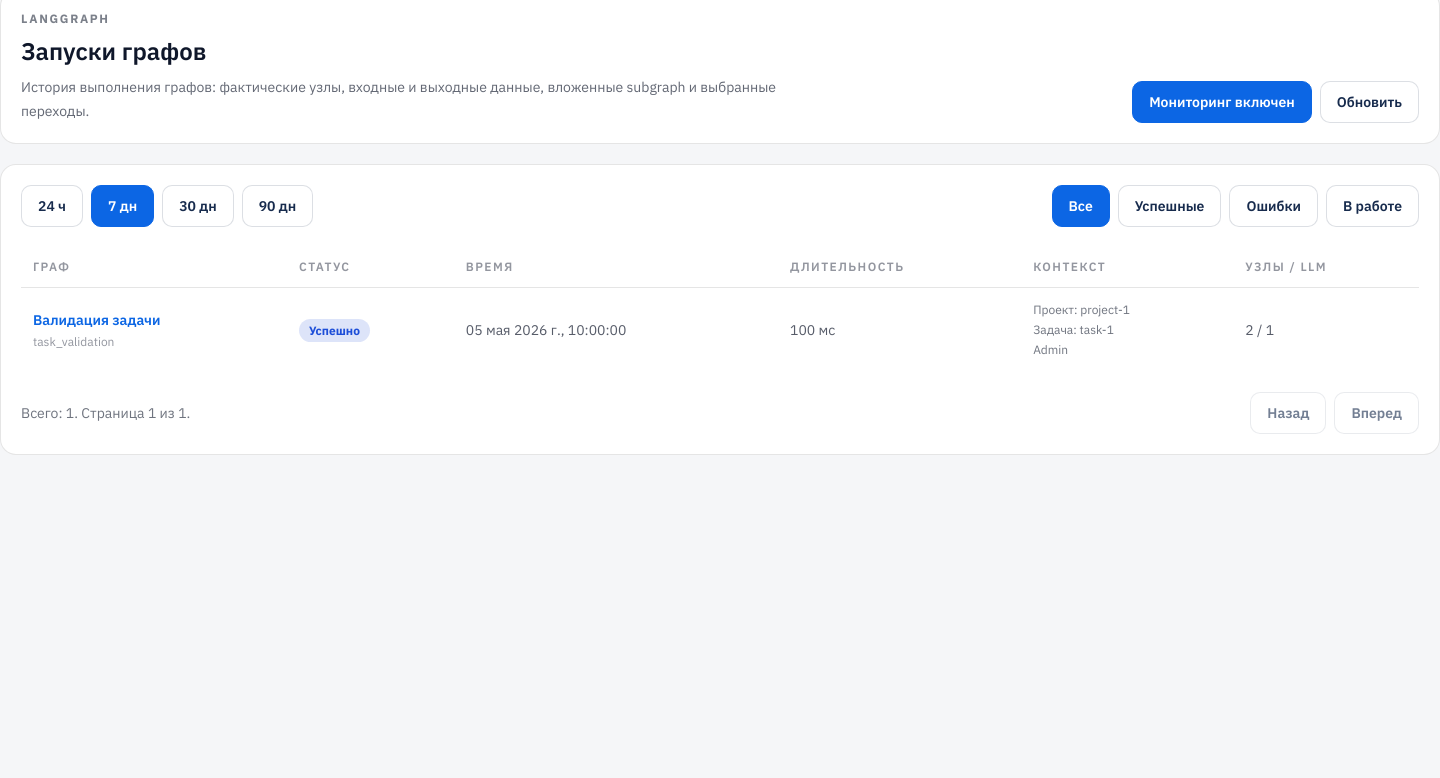
GraphRunsPage › renders graph runs, opens node tree, and expands node input/output
expect the heading "Запуски графов" is shown: met, box x1=21 y1=35 x2=206 y2=67
Click the button "Валидация задачи".
click(97, 320)  # box x1=33 y1=310 x2=160 y2=330
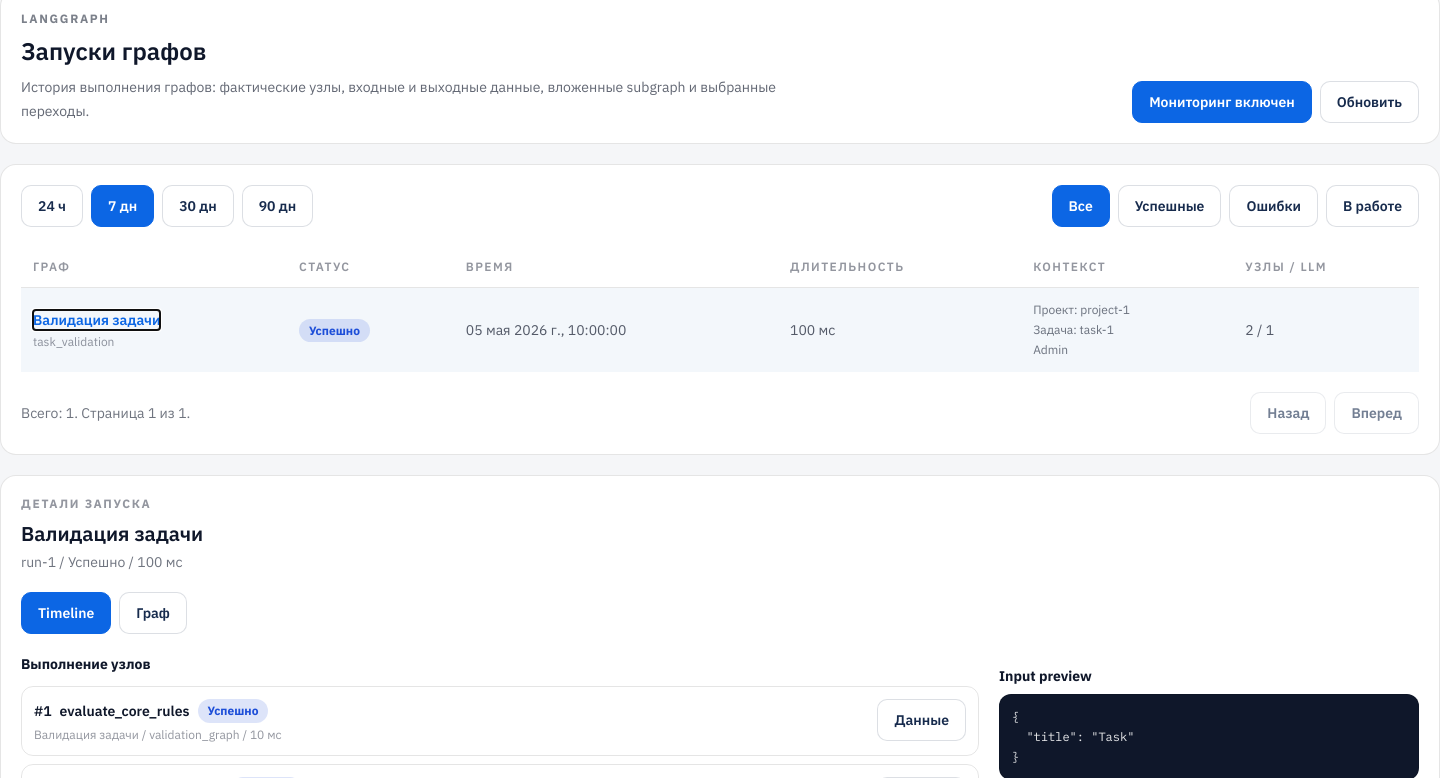
expect the heading "Выполнение узлов" is shown: met, box x1=21 y1=655 x2=150 y2=673
expect the text "evaluate_core_rules" is shown: met, box x1=60 y1=701 x2=190 y2=721
Click the button "Данные" in the row of "10 мс".
click(922, 720)  # box x1=877 y1=699 x2=966 y2=741
(page scrolled)
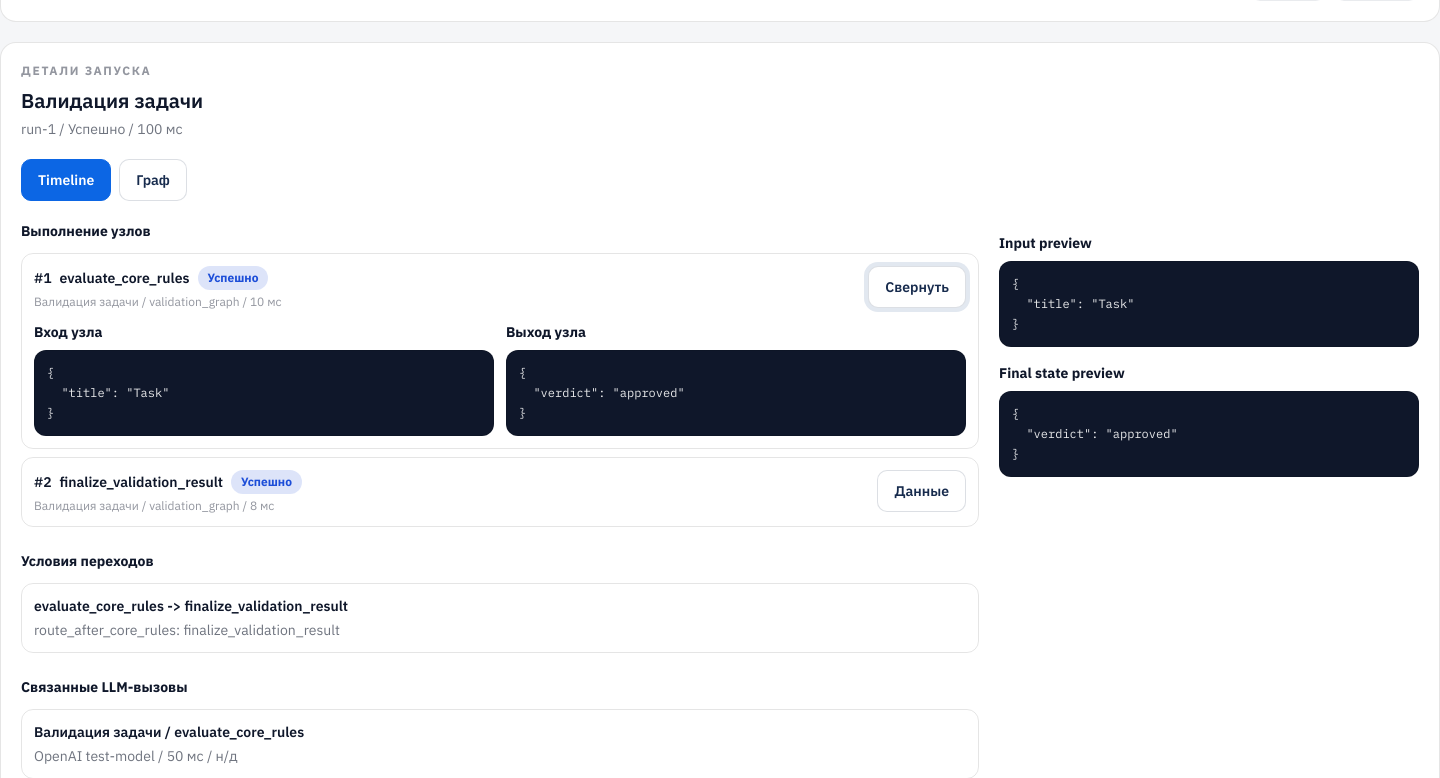
expect the heading "Связанные LLM-вызовы" is shown: met, box x1=21 y1=678 x2=188 y2=696
expect the heading "Вход узла" is shown: met, box x1=34 y1=323 x2=103 y2=341
expect the heading "Выход узла" is shown: met, box x1=506 y1=323 x2=586 y2=341
